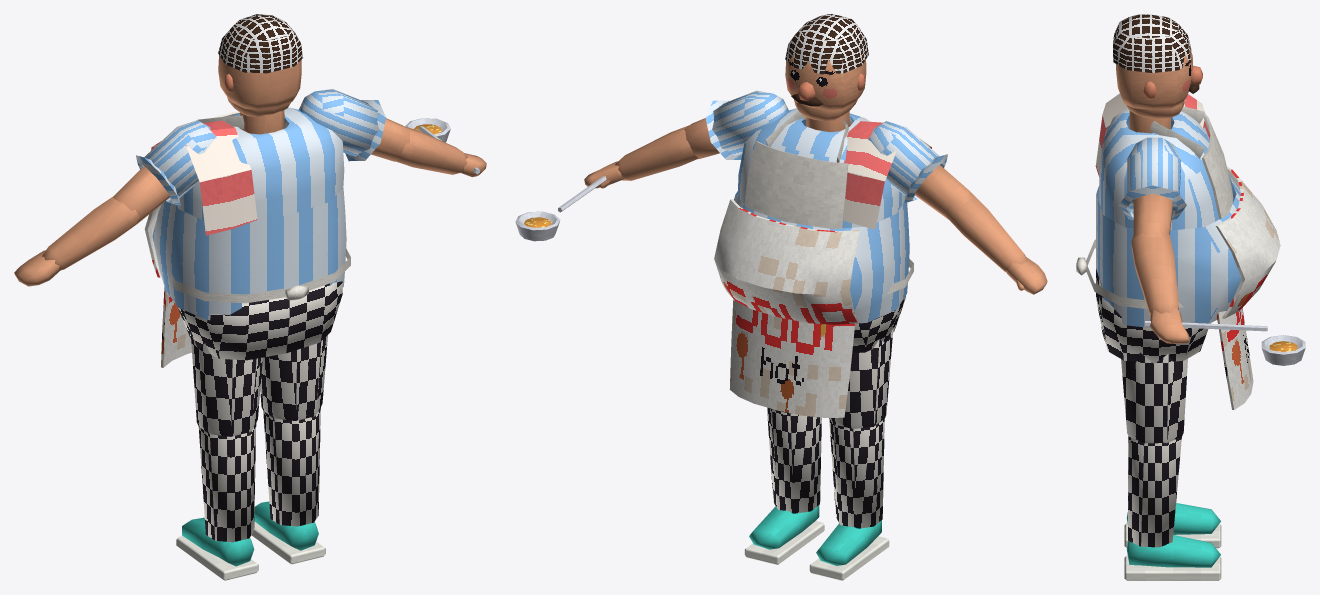
File: s_local_cook.glb
The picture shows the model from 3 angles, left to right: view 1: azimuth 30°, elevation 25°; view 2: azimuth 150°, elevation 25°; view 3: azimuth 270°, elevation 25°; orthographic projection. The views are drawn at different scales.
Visible parts, largest first — view 1: spine_m, chest_m, hips_m, head_m, shinL_m, shinR_m, legL_m, armL_m, armR_m, legR_m, foreL_m, footL_m (+5 smaller); view 2: spine_m, chest_m, hips_m, head_m, shinL_m, shinR_m, armL_m, armR_m, legL_m, footR_m, footL_m, foreL_m (+3 smaller); view 3: spine_m, chest_m, head_m, hips_m, shinR_m, legR_m, armR_m, footR_m, foreR_m, handR_m, footL_m, neck_m (+1 smaller).
Boxes of the visible parts, x1=… form: spine_m: x1=144, y1=188, x2=350, y2=320; chest_m: x1=151, y1=107, x2=344, y2=235; hips_m: x1=161, y1=281, x2=342, y2=367; head_m: x1=218, y1=14, x2=303, y2=109; shinL_m: x1=198, y1=423, x2=256, y2=542; shinR_m: x1=263, y1=407, x2=320, y2=526; legL_m: x1=190, y1=334, x2=262, y2=436; armL_m: x1=113, y1=120, x2=216, y2=224; armR_m: x1=298, y1=89, x2=409, y2=161; legR_m: x1=260, y1=335, x2=327, y2=420; foreL_m: x1=42, y1=196, x2=139, y2=270; footL_m: x1=176, y1=517, x2=258, y2=580; spine_m: x1=714, y1=191, x2=913, y2=324; chest_m: x1=737, y1=108, x2=931, y2=229; hips_m: x1=729, y1=296, x2=905, y2=417; head_m: x1=785, y1=14, x2=868, y2=110; shinL_m: x1=829, y1=418, x2=884, y2=528; shinR_m: x1=767, y1=407, x2=821, y2=513; armL_m: x1=868, y1=121, x2=971, y2=219; armR_m: x1=683, y1=90, x2=788, y2=159; legL_m: x1=830, y1=328, x2=893, y2=428; footR_m: x1=744, y1=505, x2=824, y2=564; footL_m: x1=809, y1=520, x2=889, y2=580; foreL_m: x1=945, y1=193, x2=1026, y2=272; spine_m: x1=1076, y1=166, x2=1280, y2=327; chest_m: x1=1095, y1=93, x2=1233, y2=230; head_m: x1=1113, y1=14, x2=1202, y2=109; hips_m: x1=1096, y1=269, x2=1253, y2=409; shinR_m: x1=1128, y1=436, x2=1181, y2=547; legR_m: x1=1121, y1=352, x2=1187, y2=443; armR_m: x1=1119, y1=137, x2=1186, y2=236; footR_m: x1=1124, y1=535, x2=1221, y2=580; foreR_m: x1=1131, y1=232, x2=1178, y2=315; handR_m: x1=1144, y1=307, x2=1305, y2=365; footL_m: x1=1124, y1=503, x2=1221, y2=548; neck_m: x1=1129, y1=111, x2=1170, y2=133.
Size of what is drawn, in the model's own units: 1.73 by 1.85 by 0.7114.
3 materials, 3 textured.
